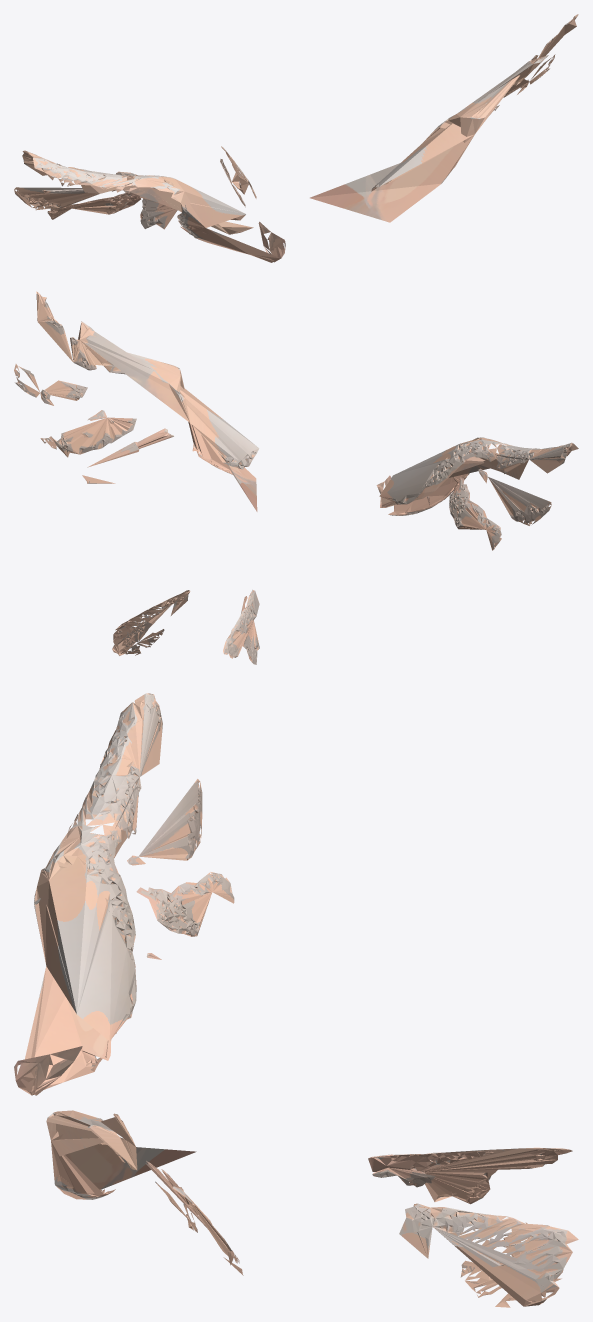
3 renders of one model, top to bottom at view 1: azimuth 30°, elevation 25°; view 2: azimuth 150°, elevation 25°; view 3: azimuth 270°, elevation 25°, orthographic. The views are drawn at different scales.
Bounding box in the file's own units: 0.9303 × 0.3647 × 0.5037.
Materials: 1 (1 with a texture image).
